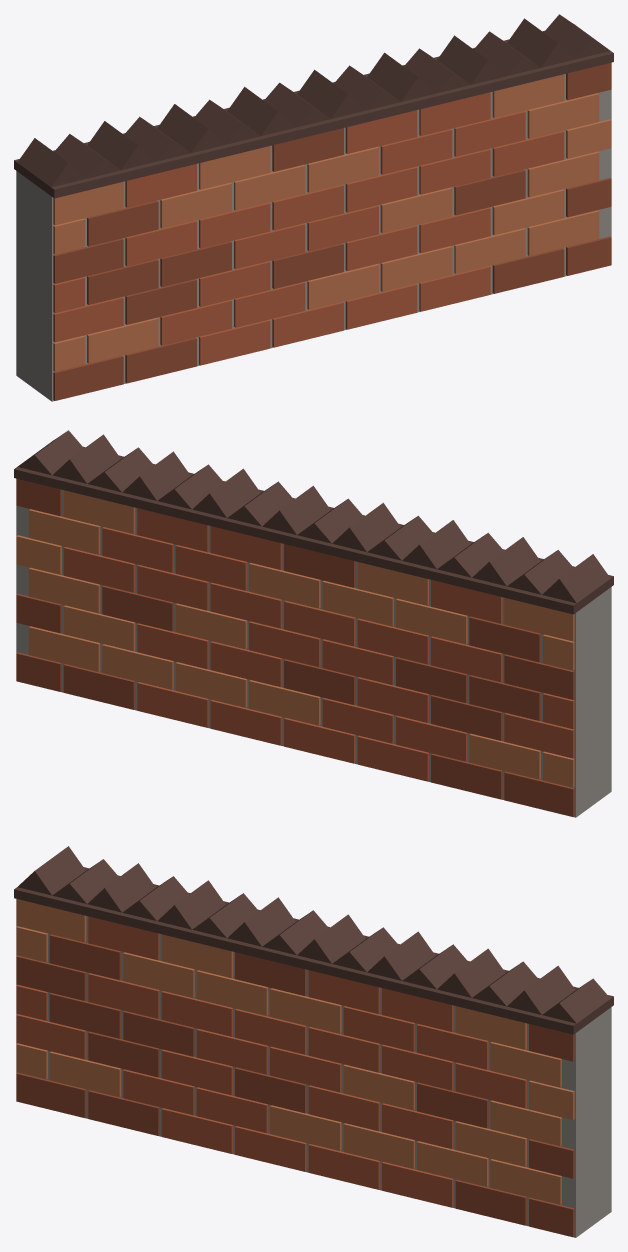
The model's file is wall_brick.glb.
3 views of the same model, one above another, from view 1: azimuth 30°, elevation 25°; view 2: azimuth 150°, elevation 25°; view 3: azimuth 330°, elevation 25° (orthographic).
Visible parts, largest first — view 1: wall_core-col, wb_brick13, wb_brick47, wb_brick06, wb_brick20, wb_brick36, wb_brick04, wb_brick29, wb_brick38, wb_brick45, wb_brick15, wb_brick22 (+45 smaller); view 2: wall_core-col, wb_brick13, wb_brick47, wb_brick06, wb_brick20, wb_brick36, wb_brick04, wb_brick29, wb_brick38, wb_brick45, wb_brick15, wb_brick22 (+45 smaller); view 3: wall_core-col, wb_brick43, wb_brick04, wb_brick09, wb_brick11, wb_brick20, wb_brick25, wb_brick27, wb_brick34, wb_brick36, wb_brick02, wb_brick18 (+45 smaller).
Part boxes in pixels (<box>): wall_core-col: <box>14,14,613,401</box>; wb_brick13: <box>380,246,452,291</box>; wb_brick47: <box>527,93,599,138</box>; wb_brick06: <box>492,248,564,293</box>; wb_brick20: <box>345,225,417,270</box>; wb_brick36: <box>345,166,417,212</box>; wb_brick04: <box>345,284,417,329</box>; wb_brick29: <box>380,187,452,233</box>; wb_brick38: <box>492,131,564,176</box>; wb_brick45: <box>380,129,452,174</box>; wb_brick15: <box>527,210,599,255</box>; wb_brick22: <box>492,189,564,235</box>; wall_core-col: <box>14,430,613,817</box>; wb_brick13: <box>175,662,247,707</box>; wb_brick47: <box>28,509,100,554</box>; wb_brick06: <box>63,664,135,709</box>; wb_brick20: <box>210,641,282,686</box>; wb_brick36: <box>210,582,282,628</box>; wb_brick04: <box>210,700,282,745</box>; wb_brick29: <box>175,603,247,649</box>; wb_brick38: <box>63,547,135,592</box>; wb_brick45: <box>175,545,247,590</box>; wb_brick15: <box>28,626,100,671</box>; wb_brick22: <box>63,605,135,651</box>; wall_core-col: <box>14,846,613,1237</box>; wb_brick43: <box>196,970,268,1015</box>; wb_brick04: <box>308,1144,380,1189</box>; wb_brick09: <box>49,1051,121,1097</box>; wb_brick11: <box>196,1087,268,1133</box>; wb_brick20: <box>308,1085,380,1131</box>; wb_brick25: <box>49,993,121,1038</box>; wb_brick27: <box>196,1029,268,1074</box>; wb_brick34: <box>161,991,233,1036</box>; wb_brick36: <box>308,1027,380,1072</box>; wb_brick02: <box>161,1108,233,1153</box>; wb_brick18: <box>161,1049,233,1095</box>.
Bounding box in the file's own units: 4 × 1.6 × 0.5.
